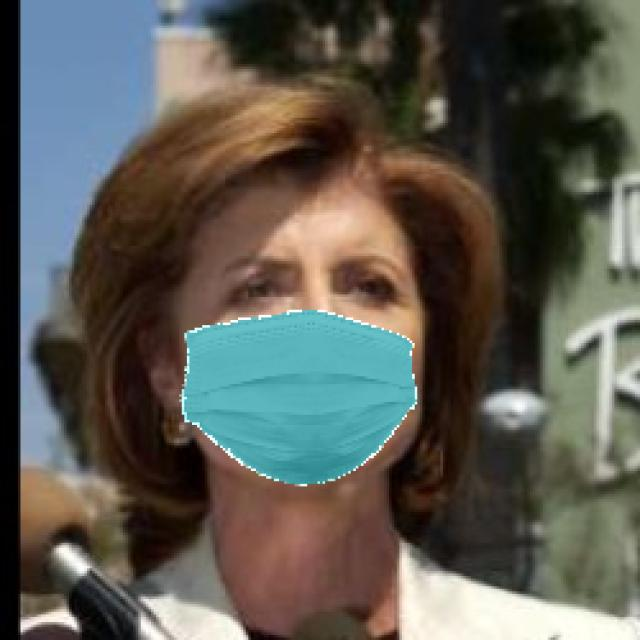mask: (186, 298, 444, 496)
